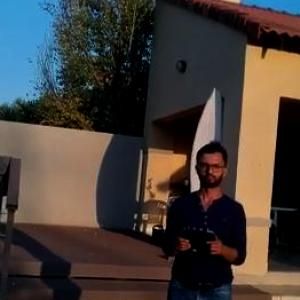follow: (156, 132, 253, 299)
